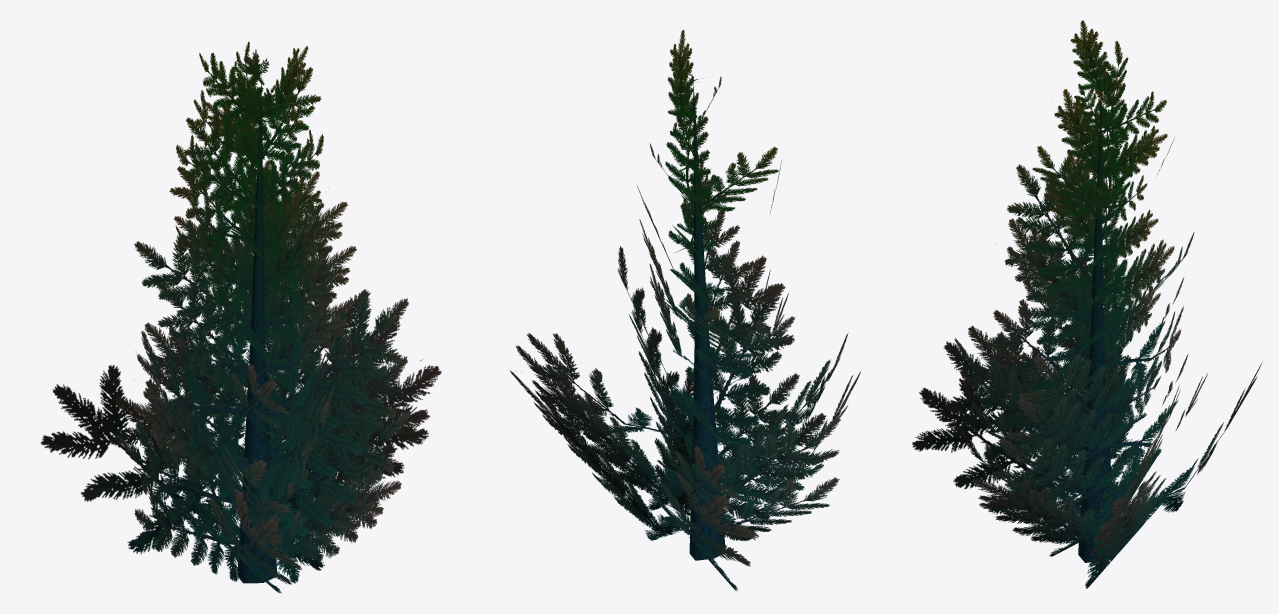
File: Picea_Abies_G.glb
3 renders of one model, left to right at view 1: azimuth 30°, elevation 25°; view 2: azimuth 150°, elevation 25°; view 3: azimuth 270°, elevation 25°, orthographic. The views are drawn at different scales.
Visible parts, largest first — view 1: G_LOD0; view 2: G_LOD0; view 3: G_LOD0.
Part boxes in pixels (x1,y1,x2,y2): G_LOD0: (41,41,441,593); G_LOD0: (510,30,860,590); G_LOD0: (912,20,1262,588).
Size of what is drawn, in the model's own units: 1.19 by 1.75 by 1.06.
Materials: 2 (2 with a texture image).
